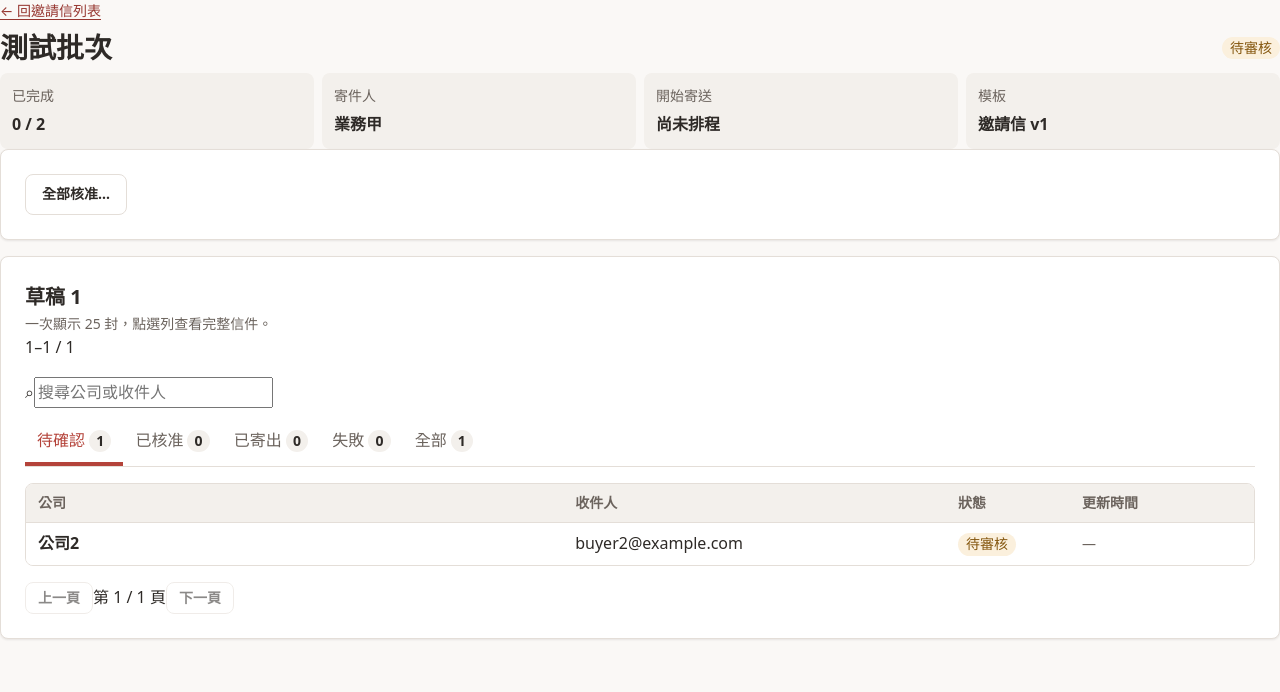
M4-06k 預覽佇列顯示 AI 資訊 › test_m4_06k_review_hides_ai_info_for_template_drafts：模板草稿不顯示 AI 資訊
The image size is (1280, 692).
Click the row "公司2 buyer2@example.com 待審核 —" at (640, 544), box [26,522,1254,565]
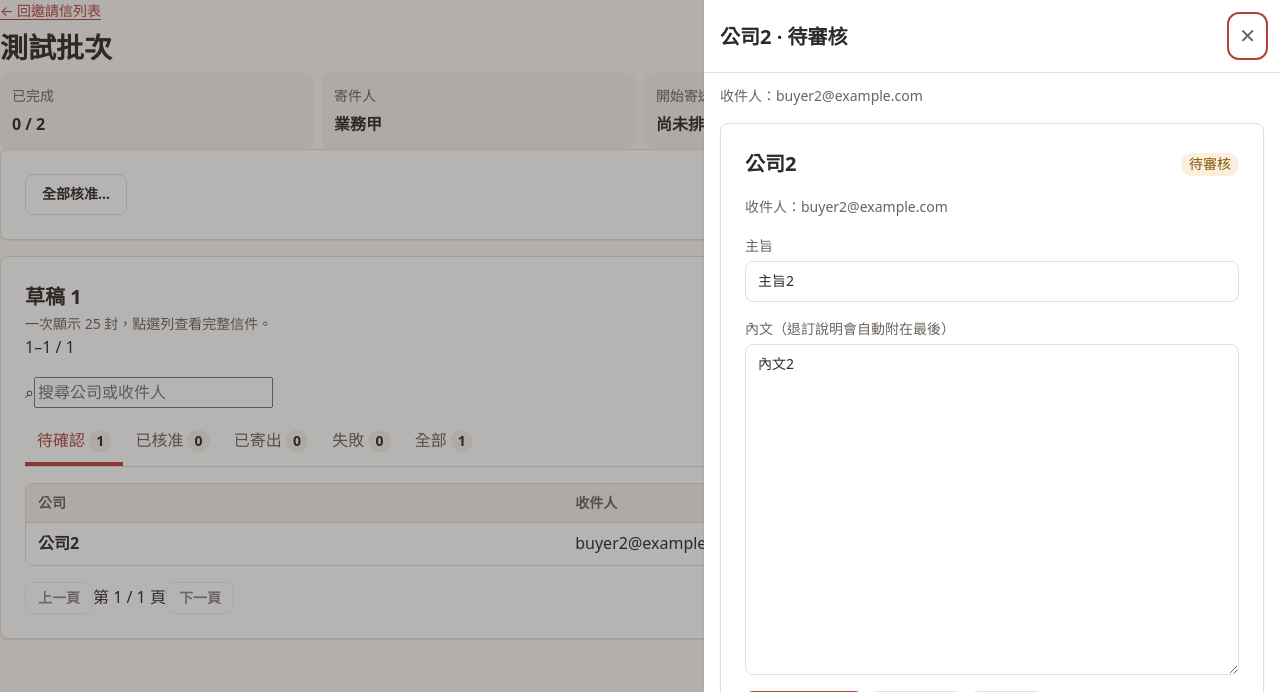
Result: the field showing "主旨2" is shown at [745,261,1239,302]
